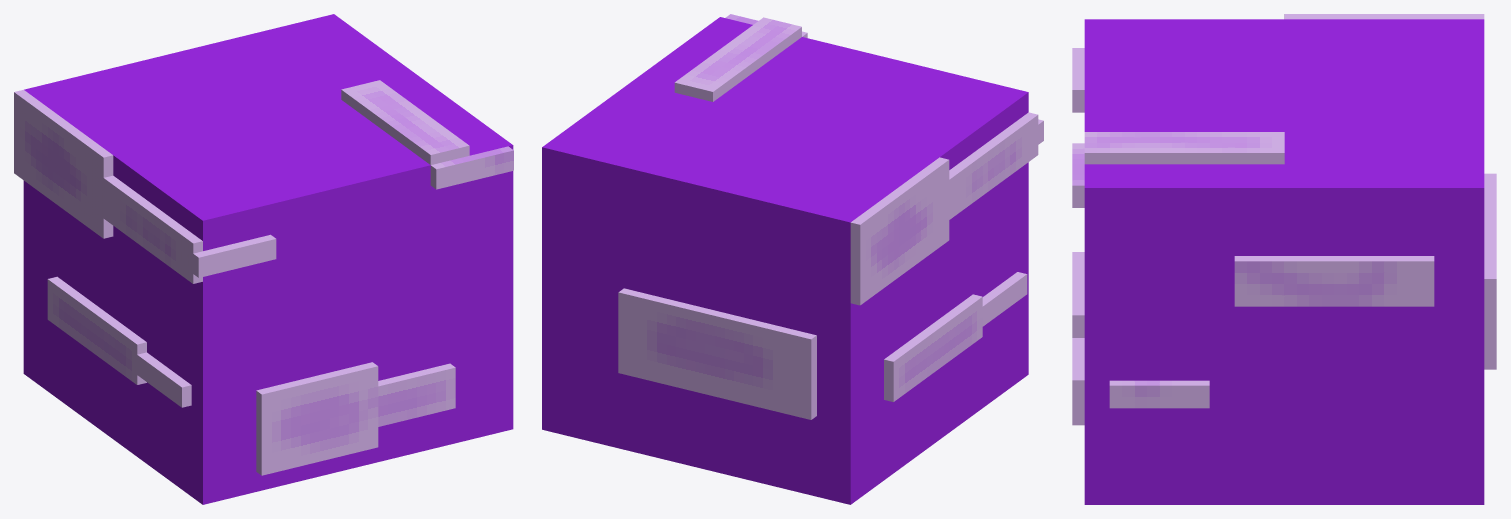
Rendered from planet_purple.gltf.
3 renders of one model, left to right at view 1: azimuth 30°, elevation 25°; view 2: azimuth 150°, elevation 25°; view 3: azimuth 270°, elevation 25°, orthographic. The views are drawn at different scales.
Visible parts, largest first — view 1: mesh, nuage; view 2: mesh, nuage; view 3: mesh, nuage.
Boxes of the visible parts, left/top/right/bottom form: mesh: left=23, top=14, right=513, bottom=504; nuage: left=14, top=80, right=513, bottom=475; mesh: left=542, top=17, right=1028, bottom=504; nuage: left=618, top=14, right=1043, bottom=419; mesh: left=1084, top=19, right=1484, bottom=504; nuage: left=1072, top=14, right=1496, bottom=425.
Size of the model in its own units: 1.06 by 0.9062 by 1.06.
1 material, 1 textured.
